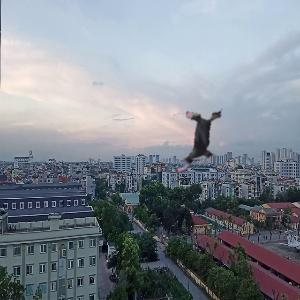drone: (167, 100, 244, 177)
